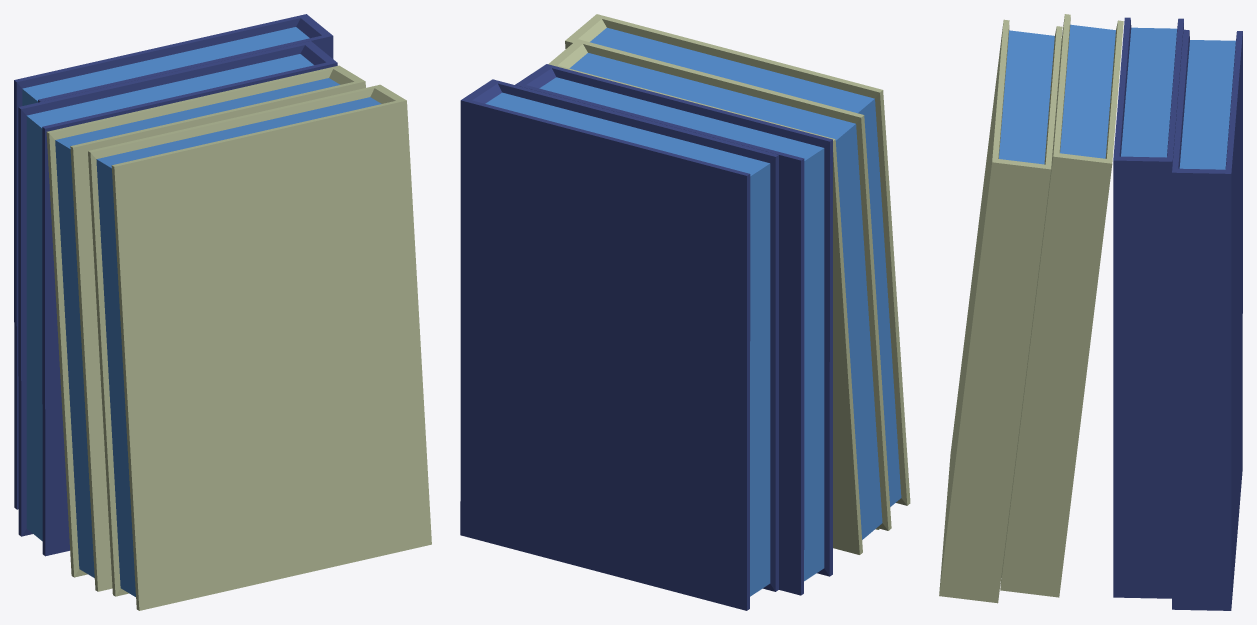
The model's file is Bedroom3_Books3.fbx.
3 renders of one model, left to right at view 1: azimuth 30°, elevation 25°; view 2: azimuth 150°, elevation 25°; view 3: azimuth 270°, elevation 25°, orthographic. The views are drawn at different scales.
Visible parts, largest first — view 1: Bedroom3_Books3; view 2: Bedroom3_Books3; view 3: Bedroom3_Books3.
Part boxes in pixels (box(x1,y1,x2,y2)): Bedroom3_Books3: box(14, 14, 431, 610); Bedroom3_Books3: box(460, 14, 910, 610); Bedroom3_Books3: box(939, 14, 1242, 610).
Bounding box in the file's own units: 33.58 × 43.76 × 27.34.
